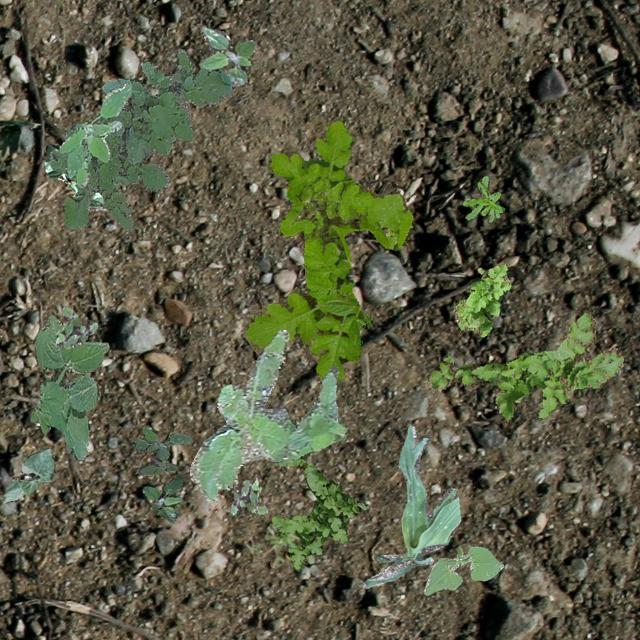crop: (362, 423, 459, 588), (43, 143, 107, 210), (422, 544, 502, 594), (1, 448, 54, 502)
weed: (243, 118, 412, 384), (48, 48, 232, 230), (188, 328, 344, 502), (426, 312, 622, 420), (29, 314, 108, 459), (270, 458, 364, 570), (59, 82, 130, 186), (454, 260, 509, 336), (200, 26, 256, 84), (246, 522, 314, 566), (134, 426, 190, 474), (462, 174, 504, 222), (142, 472, 182, 522), (54, 306, 96, 348), (230, 477, 266, 513)
